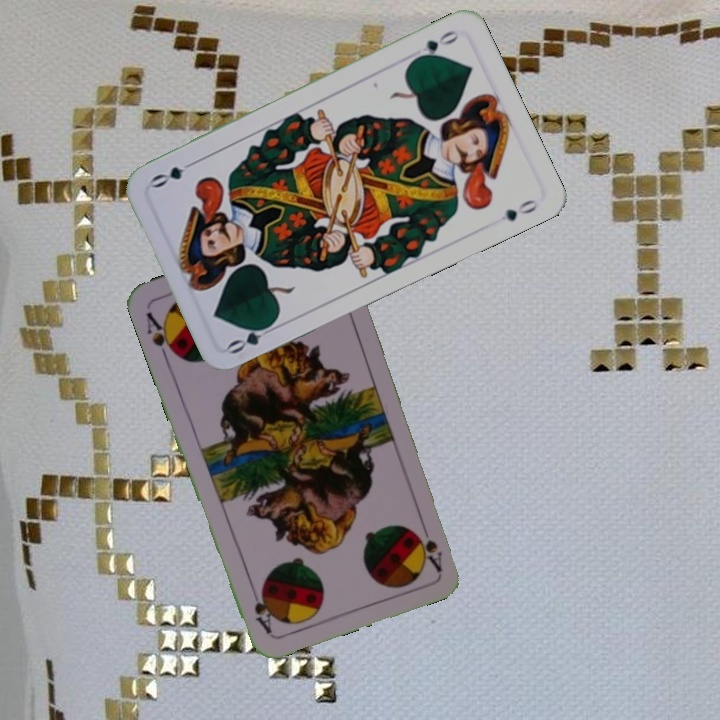GO: (224, 317, 281, 357), (409, 26, 461, 64)
SA: (142, 308, 180, 363), (413, 516, 445, 574)
